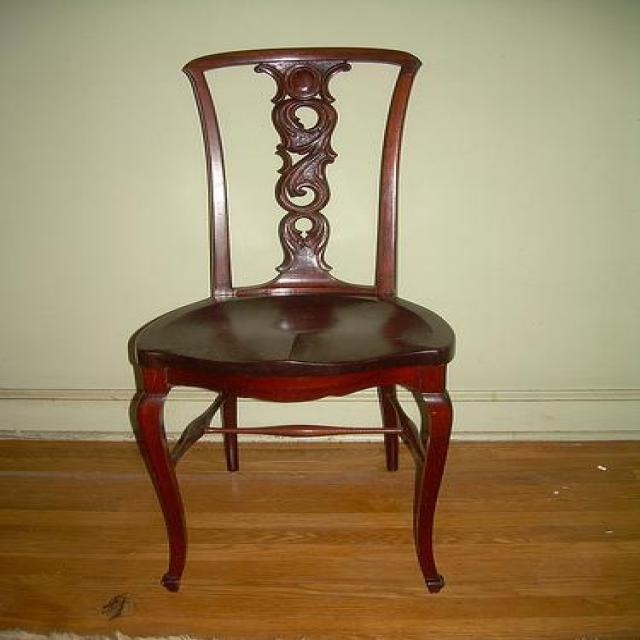chair: (128, 43, 457, 597)
